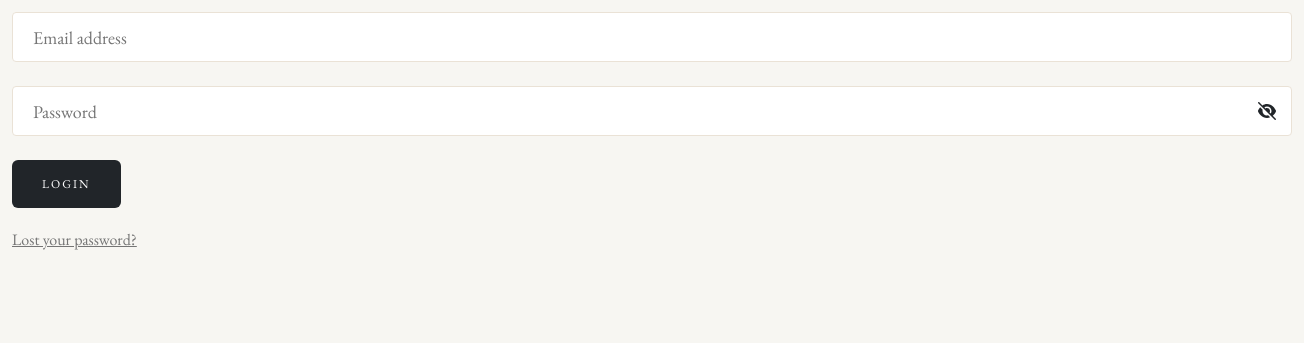
LoginForm component › shows error messages for missing fields
Click the button "Login".
click(66, 184)  # box x1=12 y1=160 x2=120 y2=208
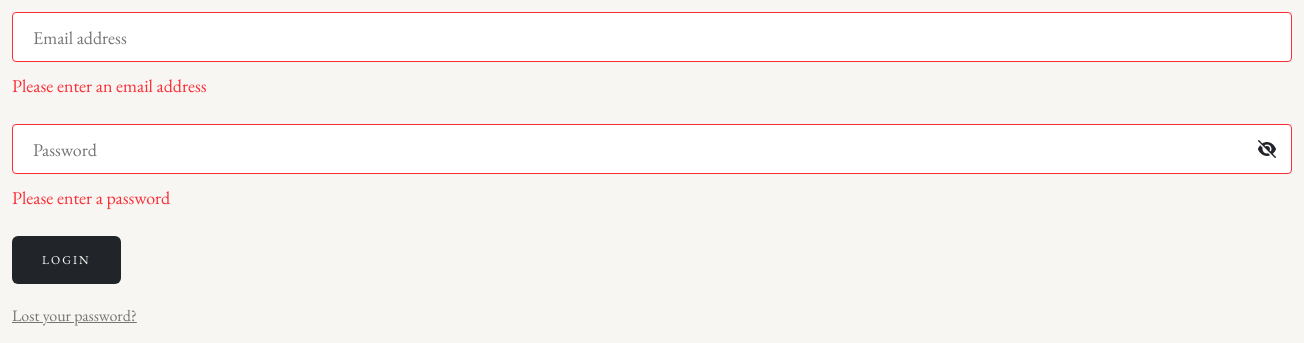
Expected: the text "Please enter an email address" is shown, x1=12 y1=74 x2=207 y2=97
Expected: the text "Please enter a password" is shown, x1=12 y1=186 x2=170 y2=209
